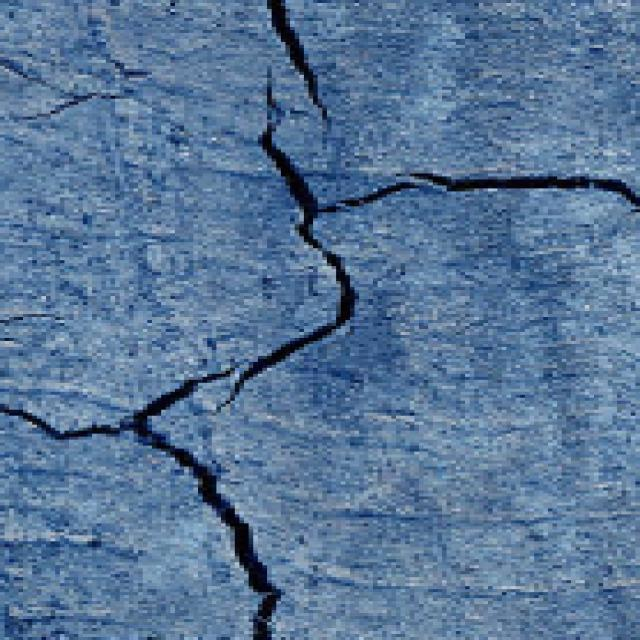branched cracks: (0, 368, 279, 639), (225, 80, 419, 404), (411, 173, 639, 211)
